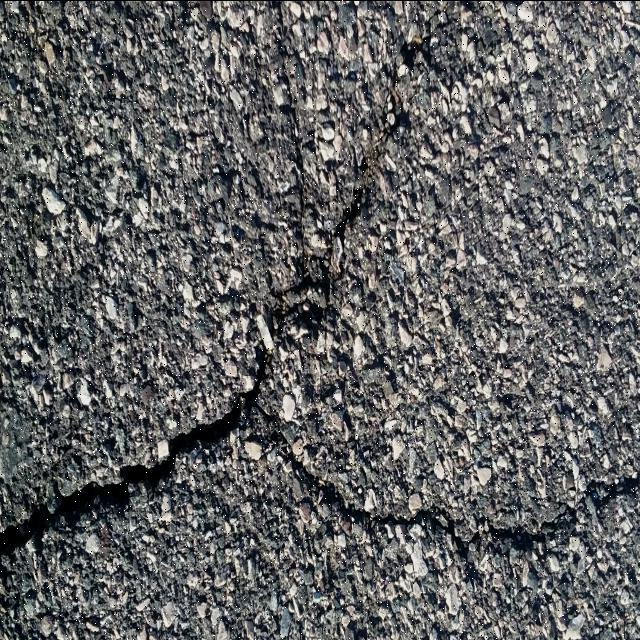Crack: (0, 7, 640, 576)
